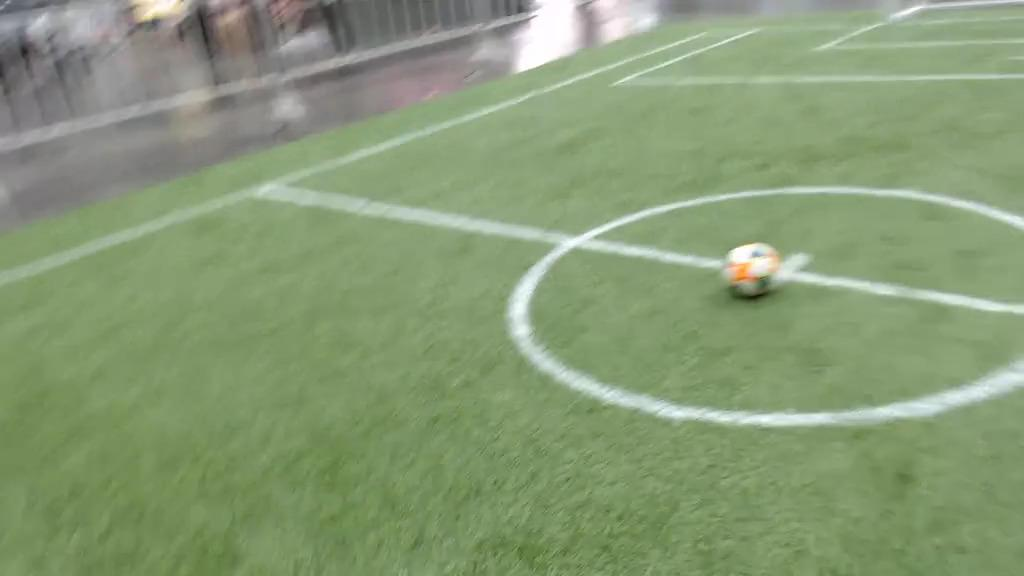ball: (725, 242, 779, 297)
